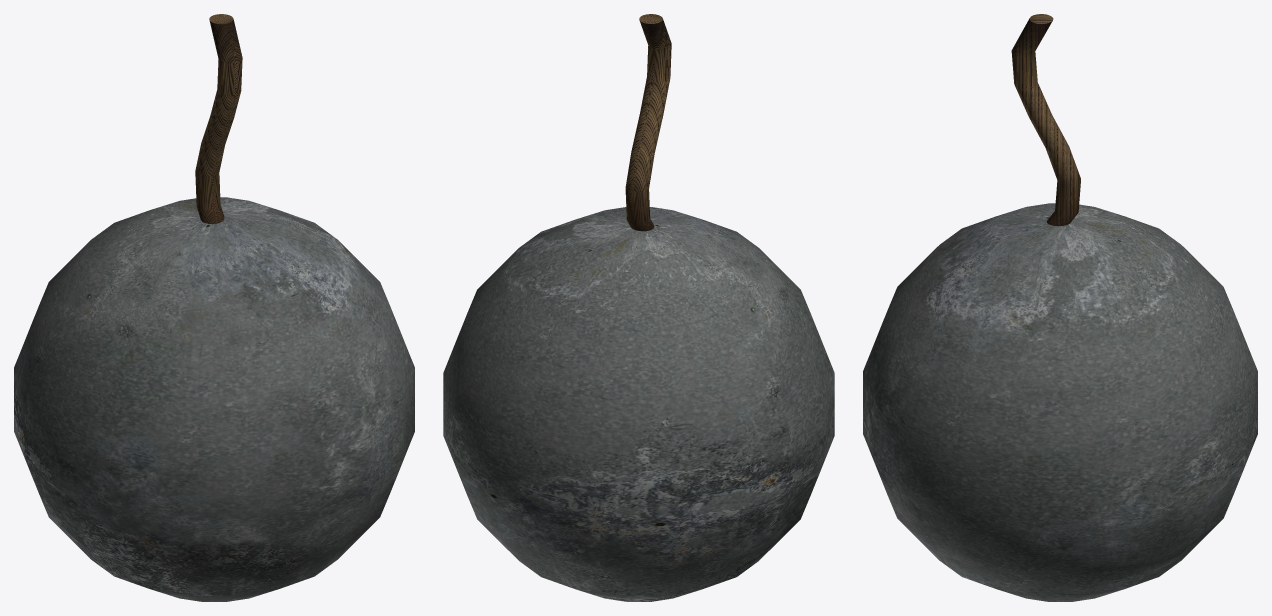
Rendered from boom.fbx.
The picture shows the model from 3 angles, left to right: view 1: azimuth 30°, elevation 25°; view 2: azimuth 150°, elevation 25°; view 3: azimuth 270°, elevation 25°; orthographic projection. The views are drawn at different scales.
Parts seen in each view (by area): view 1: Sphere001, Cylinder063; view 2: Sphere001, Cylinder063; view 3: Sphere001, Cylinder063.
Boxes of the visible parts, bbox=[...] form: Sphere001: bbox=[14, 197, 414, 601]; Cylinder063: bbox=[195, 14, 242, 224]; Sphere001: bbox=[443, 207, 834, 601]; Cylinder063: bbox=[625, 14, 671, 231]; Sphere001: bbox=[863, 203, 1257, 601]; Cylinder063: bbox=[1011, 14, 1080, 226].
Bounding box in the file's own units: 48.62 × 77.82 × 49.37.
